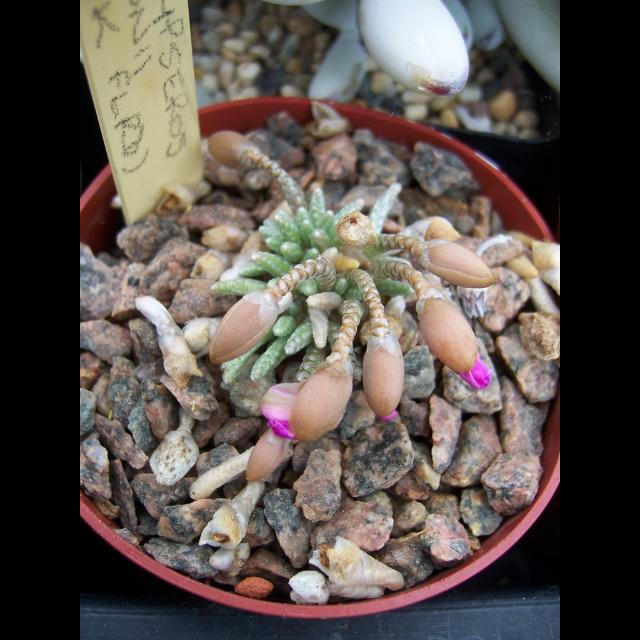Flower: (260, 378, 304, 436), (456, 355, 494, 389), (377, 408, 397, 422)
